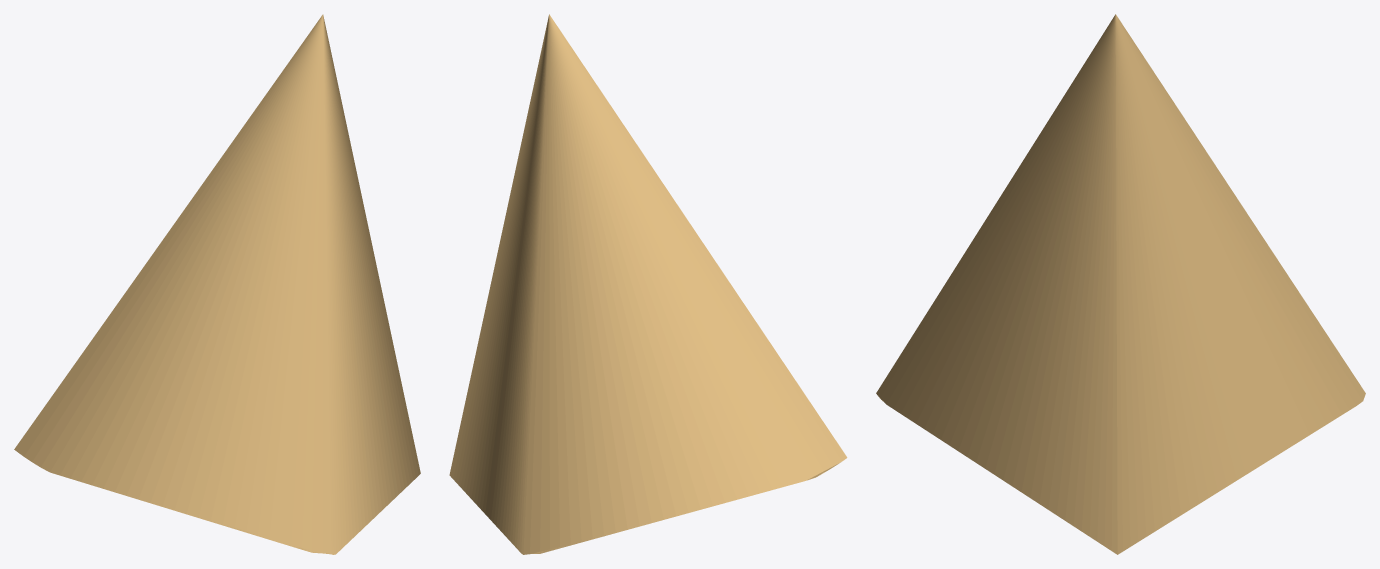
The picture shows the model from 3 angles, left to right: view 1: azimuth 30°, elevation 25°; view 2: azimuth 150°, elevation 25°; view 3: azimuth 270°, elevation 25°; orthographic projection.
Parts seen in each view (by area): view 1: Cone.001; view 2: Cone.001; view 3: Cone.001.
Boxes of the visible parts, x1,y1,x2,y2 form: Cone.001: (14, 14, 420, 554); Cone.001: (449, 14, 847, 554); Cone.001: (876, 14, 1365, 554).
Size of the model in its own units: 1.71 by 1.98 by 1.78.
